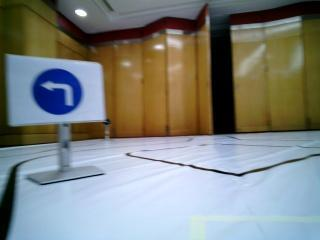left: (5, 55, 107, 127)
